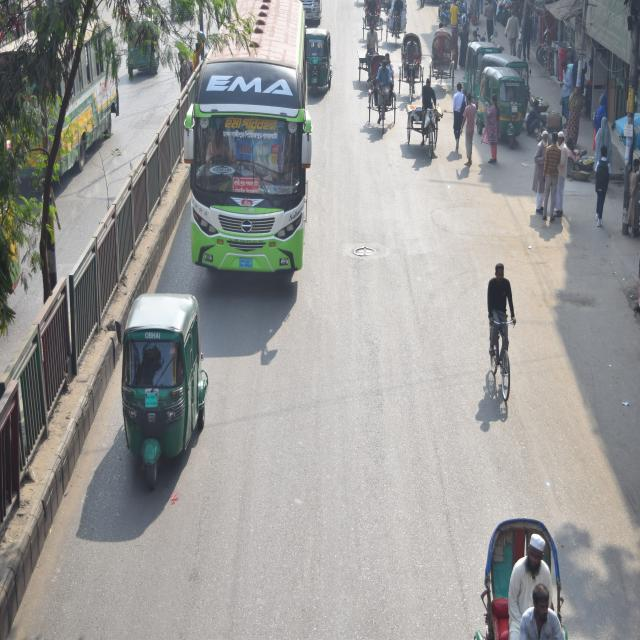bus: (174, 1, 308, 280), (0, 9, 116, 190)
